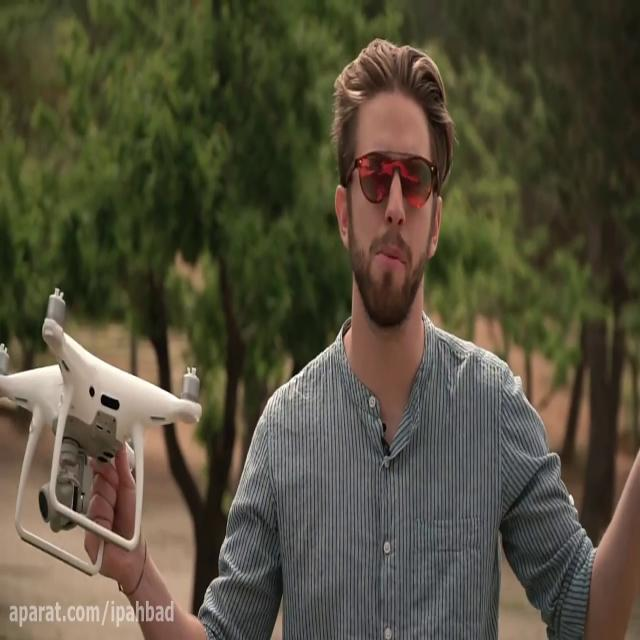drone: (0, 282, 202, 577)
